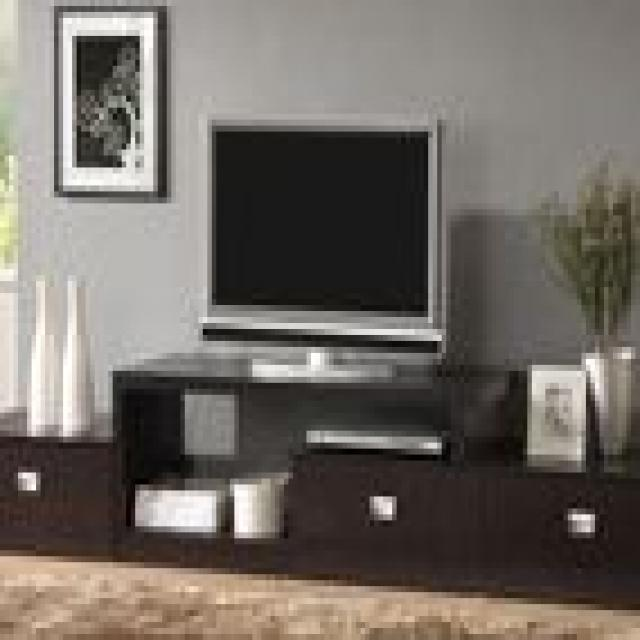others: (198, 102, 456, 353)
